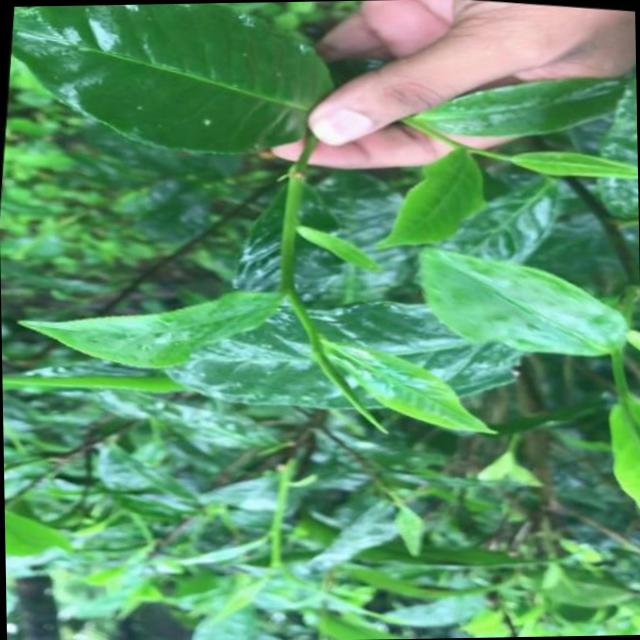Stem: (279, 273, 293, 292), (272, 556, 279, 564)
